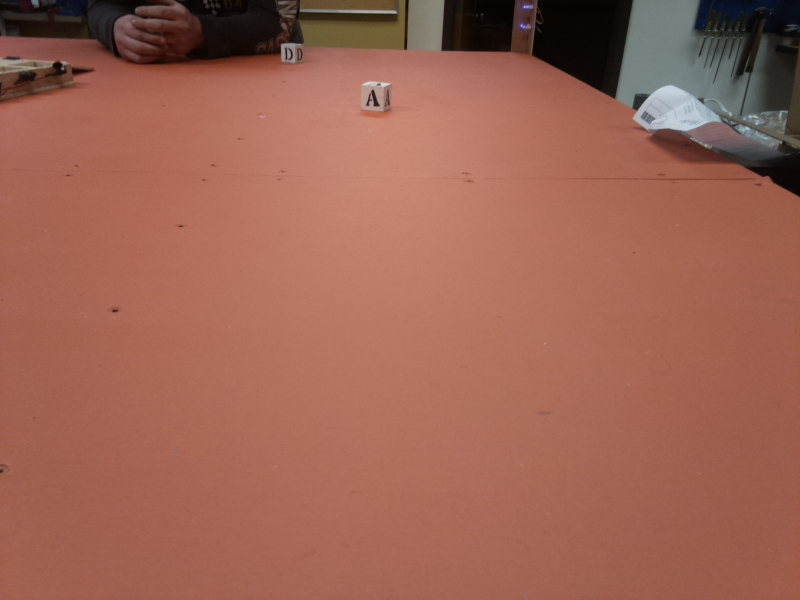blockA: (358, 81, 390, 116)
blockD: (282, 42, 303, 65)
corner: (509, 1, 539, 58)
side: (3, 61, 78, 99)
slope: (70, 61, 96, 78)
